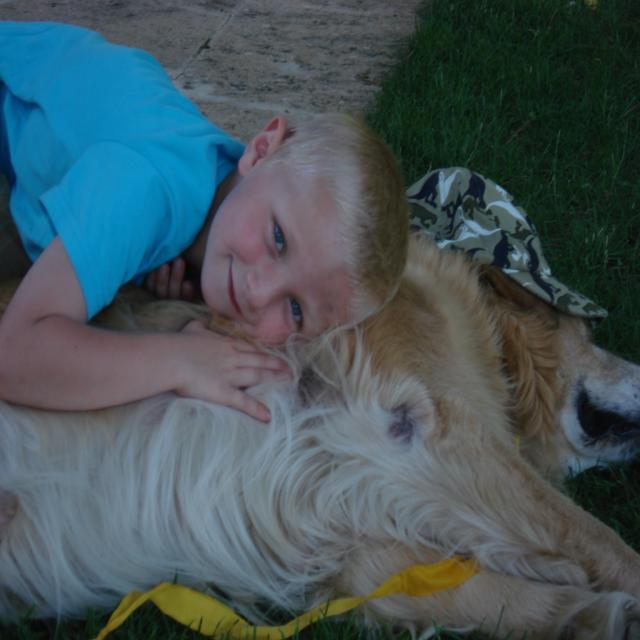Dog: (0, 232, 639, 638)
